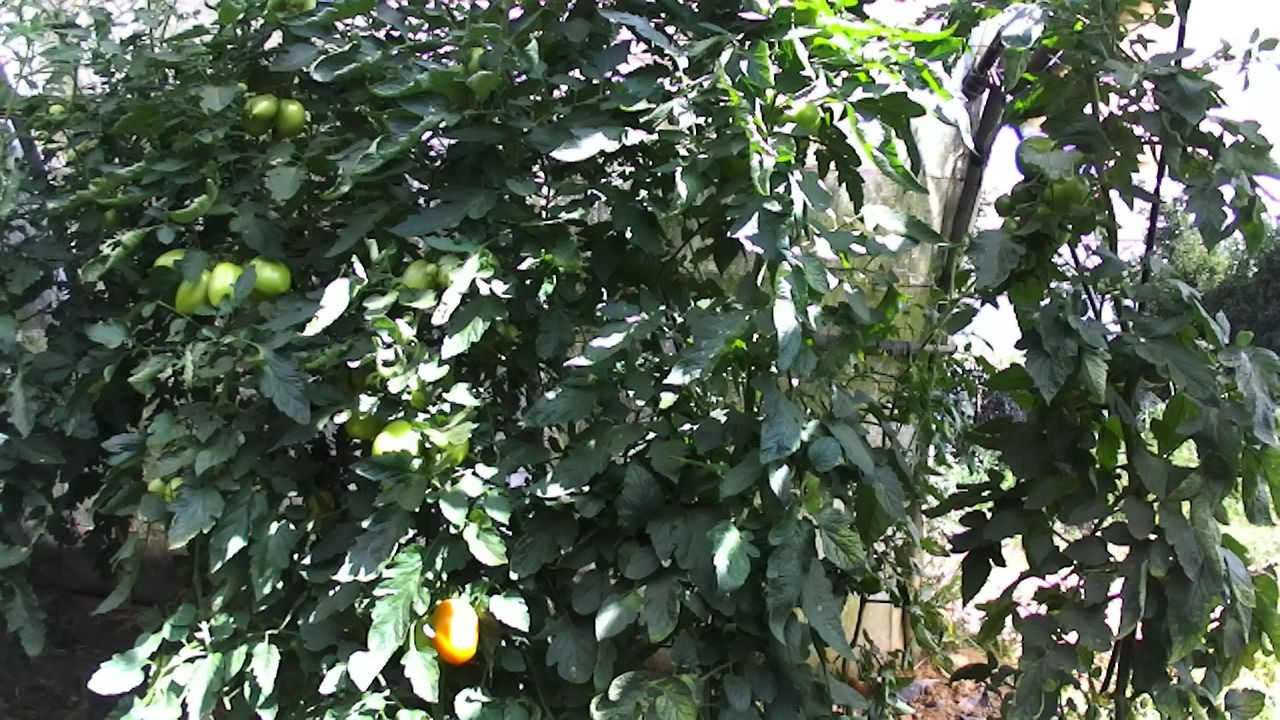tomato: (426, 595, 482, 669), (241, 248, 296, 300), (369, 415, 425, 464), (171, 264, 215, 318), (204, 258, 248, 311), (396, 255, 439, 295), (269, 93, 306, 138), (246, 90, 280, 121)
